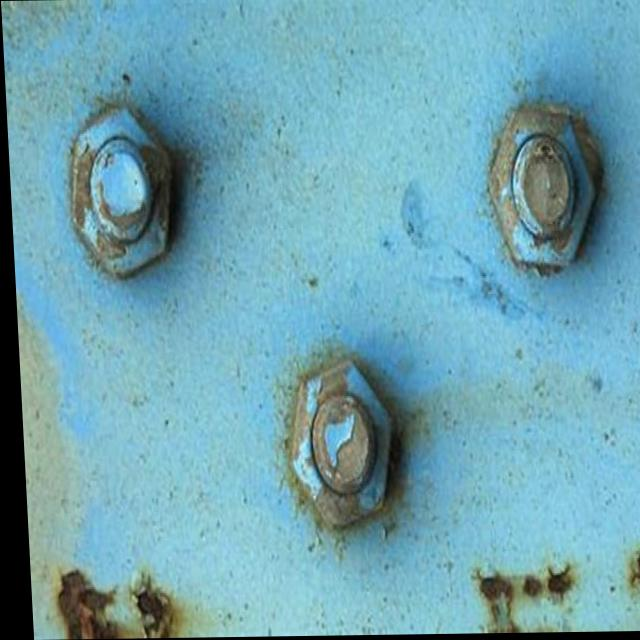Regular bolt: (64, 109, 178, 281), (284, 365, 393, 532), (484, 113, 599, 271)
